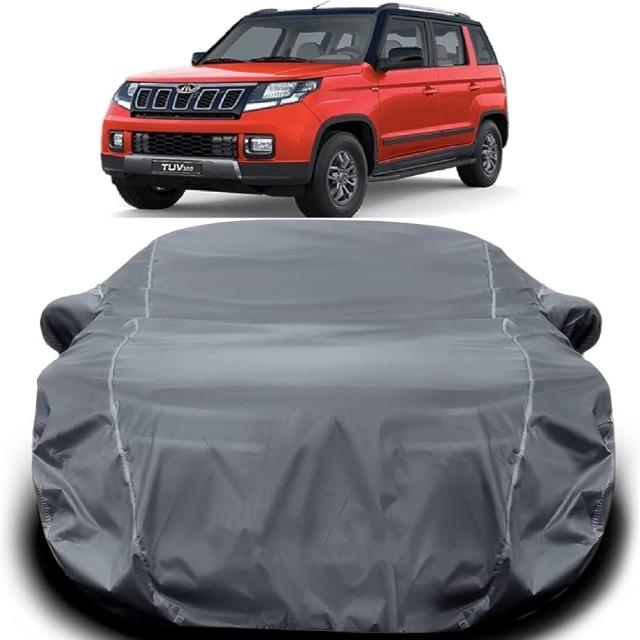light_vehicle: (87, 3, 516, 201)
